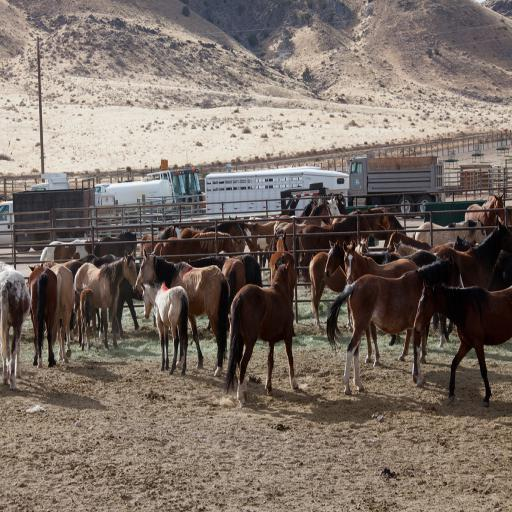horse: (0, 191, 512, 407)
